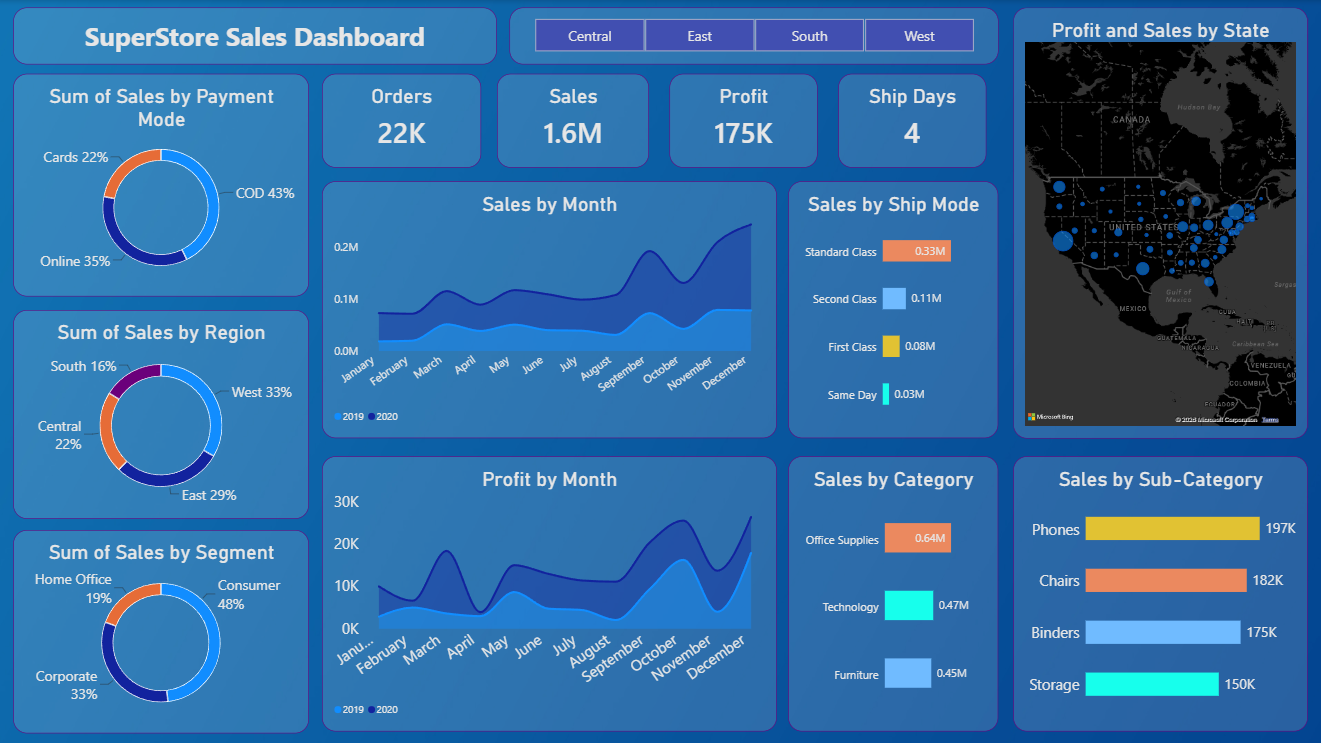

This screenshot's page, from the dashboard's own definition file:
{"tool":"powerbi","page":{"name":"Home","canvas":[1920,1080],"ordinal":0},"visuals":[{"type":"clusteredBarChart","title":"Sales by Category","fields":{"Category":["SuperStore_Sales_Dataset.Category"],"Y":["Sum(SuperStore_Sales_Dataset.Sales)"]},"box":[1146,660,304,398],"z":0},{"type":"clusteredBarChart","title":"Sales by Sub-Category","fields":{"Category":["SuperStore_Sales_Dataset.Sub-Category"],"Y":["Sum(SuperStore_Sales_Dataset.Sales)"]},"box":[1472,660,426,398],"z":1000},{"type":"clusteredBarChart","title":"Sales by Ship Mode","fields":{"Category":["SuperStore_Sales_Dataset.Ship Mode"],"Y":["Sum(SuperStore_Sales_Dataset.Sales)"]},"box":[1146,262,304,372],"z":2000},{"type":"stackedAreaChart","title":"Sales by Month","fields":{"Category":["SuperStore_Sales_Dataset.Order Date.Variation.Date Hierarchy.Month","SuperStore_Sales_Dataset.Order Date.Variation.Date Hierarchy.Day"],"Series":["SuperStore_Sales_Dataset.Order Date.Variation.Date Hierarchy.Year"],"Y":["Sum(SuperStore_Sales_Dataset.Sales)"]},"box":[470,262,658,372],"z":3000},{"type":"stackedAreaChart","title":"Profit by Month","fields":{"Category":["SuperStore_Sales_Dataset.Order Date.Variation.Date Hierarchy.Month","SuperStore_Sales_Dataset.Order Date.Variation.Date Hierarchy.Day"],"Series":["SuperStore_Sales_Dataset.Order Date.Variation.Date Hierarchy.Year"],"Y":["Sum(SuperStore_Sales_Dataset.Profit)"]},"box":[470,660,658,398],"z":4000},{"type":"map","title":"Profit and Sales by State","fields":{"Category":["SuperStore_Sales_Dataset.State"],"Size":["Sum(SuperStore_Sales_Dataset.Sales)"]},"box":[1472,10,426,624],"z":5000},{"type":"donutChart","fields":{"Category":["SuperStore_Sales_Dataset.Segment"],"Y":["Sum(SuperStore_Sales_Dataset.Sales)"]},"box":[24,768,428,294],"z":6000},{"type":"donutChart","fields":{"Category":["SuperStore_Sales_Dataset.Payment Mode"],"Y":["Sum(SuperStore_Sales_Dataset.Sales)"]},"box":[24,106,428,322],"z":7000},{"type":"slicer","fields":{"Values":["SuperStore_Sales_Dataset.Region"]},"box":[742,10,708,82],"z":8000},{"type":"textbox","box":[24,10,700,82],"z":9000},{"type":"card","title":"Sales","fields":{"Values":["Sum(SuperStore_Sales_Dataset.Sales)"]},"box":[724,106,220,136],"z":10000},{"type":"card","title":"Orders","fields":{"Values":["Sum(SuperStore_Sales_Dataset.Quantity)"]},"box":[470,106,230,136],"z":11000},{"type":"card","title":"Profit","fields":{"Values":["Sum(SuperStore_Sales_Dataset.Profit)"]},"box":[974,106,214,136],"z":12000},{"type":"card","title":"Ship Days","fields":{"Values":["Avg(SuperStore_Sales_Dataset.AvgDelivery)"]},"box":[1218,106,214,136],"z":13000},{"type":"donutChart","fields":{"Category":["SuperStore_Sales_Dataset.Region"],"Y":["Sum(SuperStore_Sales_Dataset.Sales)"]},"box":[24,448,428,302],"z":14000}]}

Visuals, with their boxes in screenshot pixels (x1, y1, x2, y2), scaled from the page's 1920x1080 canvas onto the 1321x743 screenshot:
"Sales by Category" clusteredBarChart: 788:454:998:728
"Sales by Sub-Category" clusteredBarChart: 1013:454:1306:728
"Sales by Ship Mode" clusteredBarChart: 788:180:998:436
"Sales by Month" stackedAreaChart: 323:180:776:436
"Profit by Month" stackedAreaChart: 323:454:776:728
"Profit and Sales by State" map: 1013:7:1306:436
donutChart - SuperStore_Sales_Dataset.Segment x Sum(SuperStore_Sales_Dataset.Sales): 17:528:311:731
donutChart - SuperStore_Sales_Dataset.Payment Mode x Sum(SuperStore_Sales_Dataset.Sales): 17:73:311:294
slicer - SuperStore_Sales_Dataset.Region: 511:7:998:63
textbox: 17:7:498:63
"Sales" card: 498:73:649:166
"Orders" card: 323:73:482:166
"Profit" card: 670:73:817:166
"Ship Days" card: 838:73:985:166
donutChart - SuperStore_Sales_Dataset.Region x Sum(SuperStore_Sales_Dataset.Sales): 17:308:311:516
